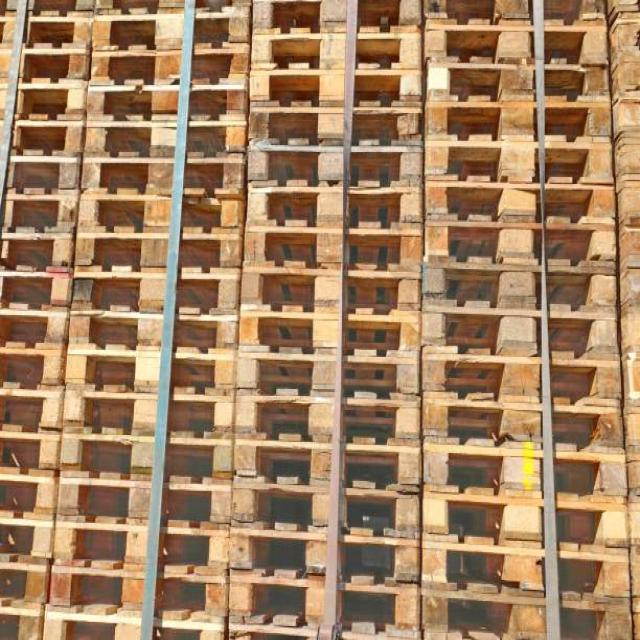Wooden-Pallets: (2, 0, 638, 640), (423, 443, 631, 516), (423, 578, 639, 640), (223, 576, 431, 640), (225, 476, 420, 542), (423, 545, 633, 606), (417, 258, 626, 318), (225, 524, 420, 586), (418, 304, 623, 362), (425, 12, 616, 73), (418, 180, 622, 236), (243, 214, 424, 277), (423, 496, 631, 550), (241, 96, 422, 158), (246, 15, 429, 76), (1, 143, 178, 206), (229, 438, 425, 494), (236, 392, 422, 451), (419, 406, 631, 457), (418, 140, 620, 193), (232, 304, 416, 361), (236, 262, 422, 318), (0, 192, 174, 251), (231, 350, 424, 403), (421, 95, 617, 147), (422, 359, 625, 409), (7, 110, 178, 164), (243, 180, 422, 231), (0, 228, 186, 277), (241, 143, 419, 192), (420, 58, 614, 102), (424, 226, 625, 268), (16, 48, 189, 96), (23, 9, 187, 56)
